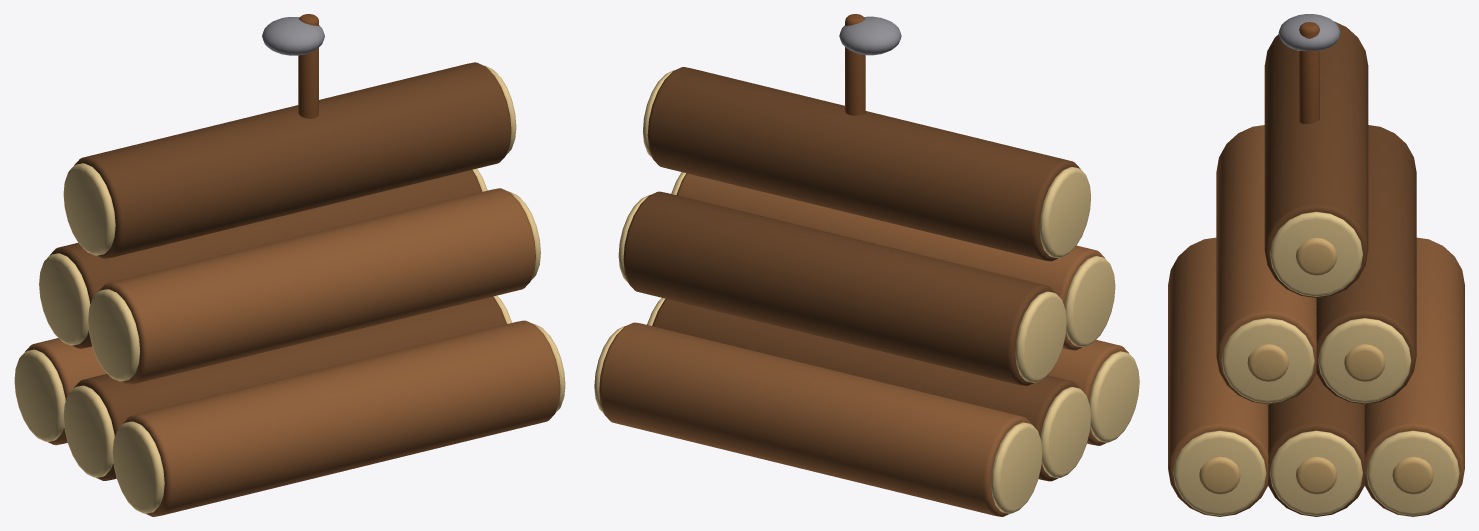
Rendered from logs.glb.
3 views of the same model, side by side, from view 1: azimuth 30°, elevation 25°; view 2: azimuth 150°, elevation 25°; view 3: azimuth 270°, elevation 25° (orthographic).
Parts seen in each view (by area): view 1: logs; view 2: logs; view 3: logs.
Boxes of the visible parts, x1,y1,x2,y2 form: logs: (14, 14, 565, 516); logs: (594, 14, 1139, 516); logs: (1168, 14, 1464, 516).
Size of the model in its own units: 1.37 by 1.3 by 0.86.
